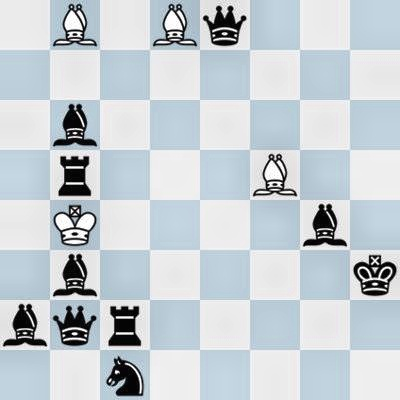black-bishop: (50, 100, 100, 150), (300, 200, 350, 250), (50, 250, 100, 300), (0, 300, 50, 350)
black-king: (350, 250, 400, 300)
black-knight: (100, 350, 150, 400)
black-queen: (200, 0, 250, 50), (50, 300, 100, 350)
black-rook: (50, 150, 100, 200), (100, 300, 150, 350)
white-bishop: (50, 0, 100, 50), (150, 0, 200, 50), (250, 150, 300, 200)
white-king: (50, 200, 100, 250)
